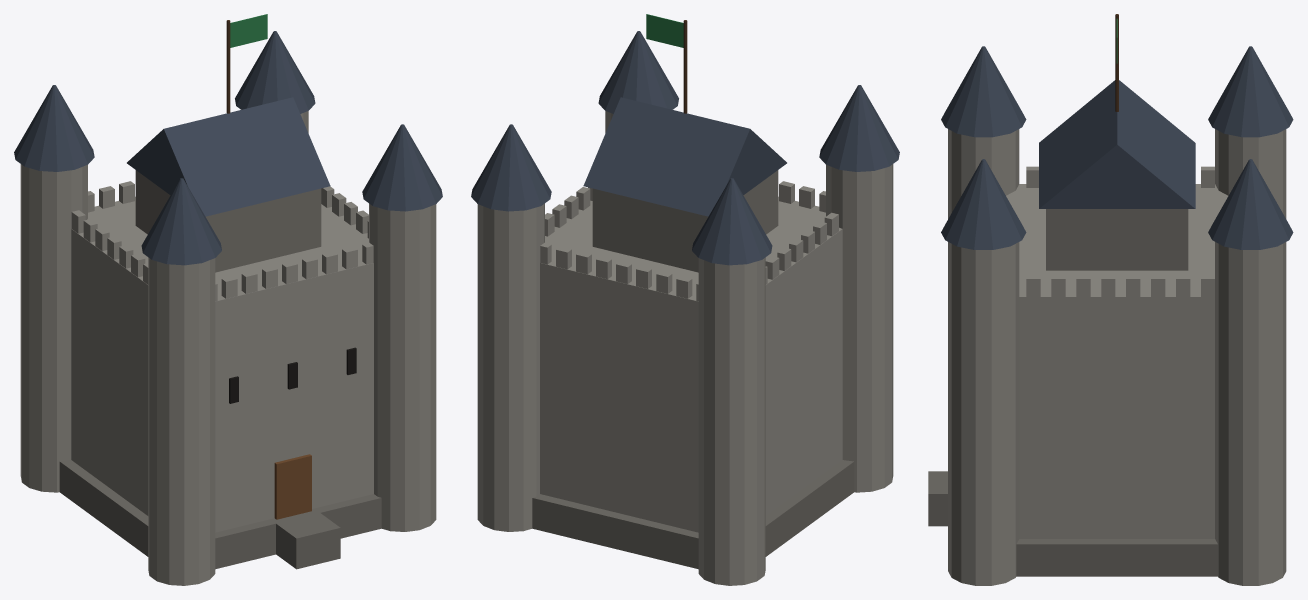
The model's file is keep.glb.
3 views of the same model, side by side, from view 1: azimuth 30°, elevation 25°; view 2: azimuth 150°, elevation 25°; view 3: azimuth 270°, elevation 25° (orthographic). The views are drawn at different scales.
Parts seen in each view (by area): view 1: Keep; view 2: Keep; view 3: Keep.
Boxes of the visible parts, left/top/right/bottom form: Keep: left=14, top=14, right=442, bottom=585; Keep: left=471, top=14, right=899, bottom=585; Keep: left=928, top=14, right=1293, bottom=585.
Bounding box in the file's own units: 19.68 × 31 × 20.5.
